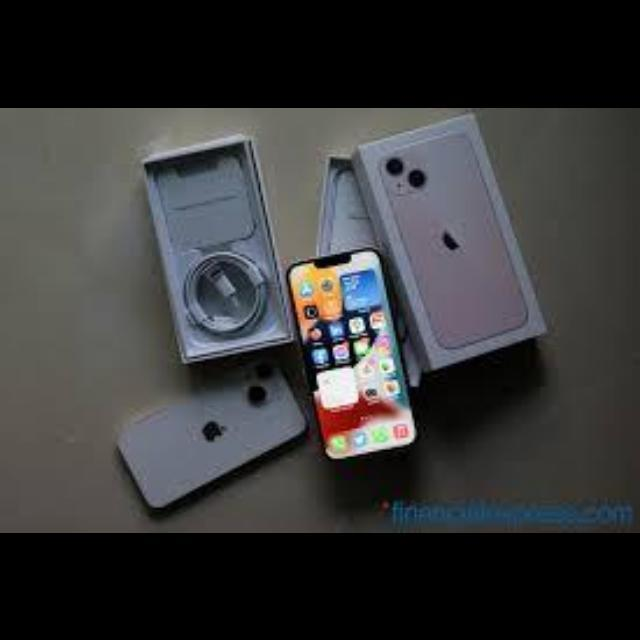Phone: (380, 129, 528, 345), (118, 360, 306, 506), (287, 248, 415, 460)
